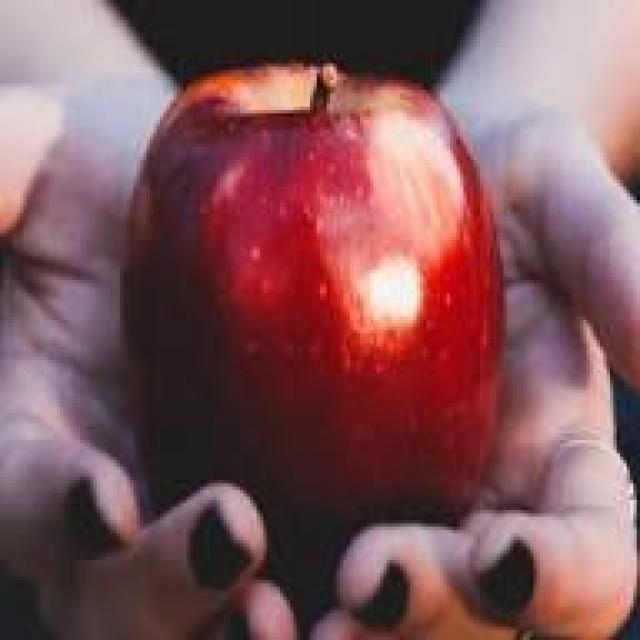apple: (140, 70, 500, 527)
